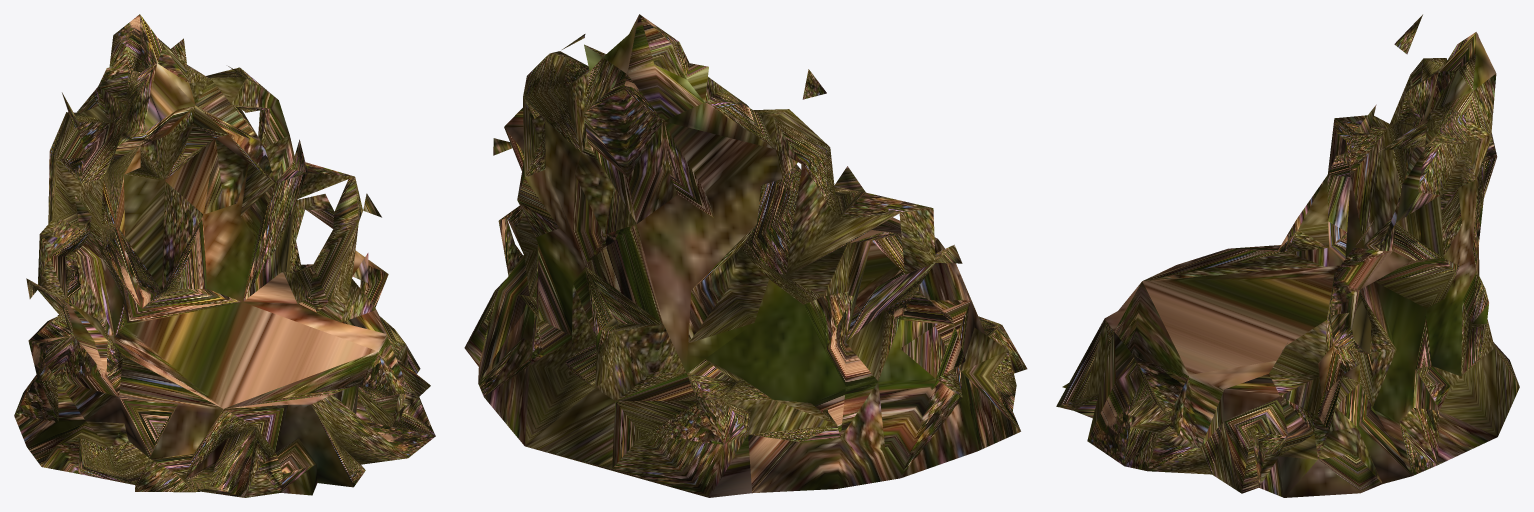
File: Enchanted_Forest_Thro.glb
The picture shows the model from 3 angles, left to right: view 1: azimuth 30°, elevation 25°; view 2: azimuth 150°, elevation 25°; view 3: azimuth 270°, elevation 25°; orthographic projection. The views are drawn at different scales.
Parts seen in each view (by area): view 1: Enchanted_Forest_Thro; view 2: Enchanted_Forest_Thro; view 3: Enchanted_Forest_Thro.
Boxes of the visible parts, x1,y1,x2,y2 form: Enchanted_Forest_Thro: (14, 14, 435, 497); Enchanted_Forest_Thro: (464, 14, 1027, 497); Enchanted_Forest_Thro: (1056, 14, 1519, 497).
Size of the model in its own units: 1.9 by 1.6 by 1.83.
1 material, 1 textured.
